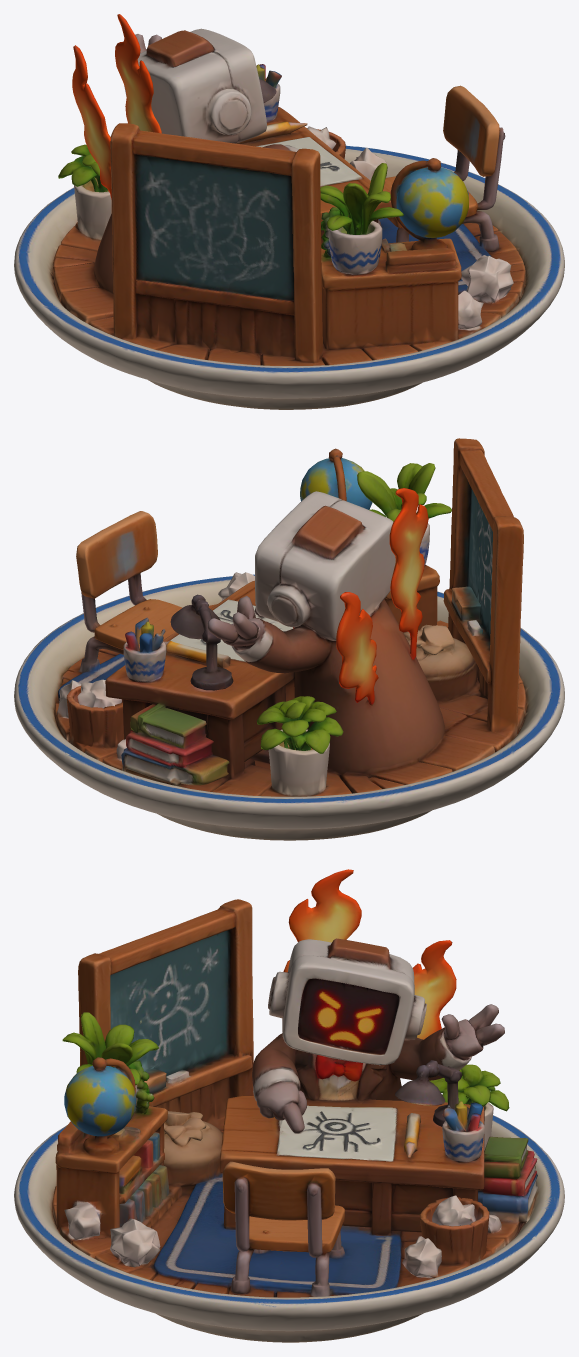
The model's file is a-bot-can-do-better.glb.
3 renders of one model, top to bottom at view 1: azimuth 30°, elevation 25°; view 2: azimuth 150°, elevation 25°; view 3: azimuth 270°, elevation 25°, orthographic.
Parts seen in each view (by area): view 1: tripo_node_2ef05cf1-8489-4fb9-87c1-36ac888c8ae7; view 2: tripo_node_2ef05cf1-8489-4fb9-87c1-36ac888c8ae7; view 3: tripo_node_2ef05cf1-8489-4fb9-87c1-36ac888c8ae7.
Part boxes in pixels (x1=…): tripo_node_2ef05cf1-8489-4fb9-87c1-36ac888c8ae7: x1=14, y1=14, x2=564, y2=409; tripo_node_2ef05cf1-8489-4fb9-87c1-36ac888c8ae7: x1=14, y1=438, x2=564, y2=840; tripo_node_2ef05cf1-8489-4fb9-87c1-36ac888c8ae7: x1=14, y1=869, x2=564, y2=1342.
Size of the model in its own units: 0.9963 by 0.6675 by 1.
Materials: 1 (1 with a texture image).
